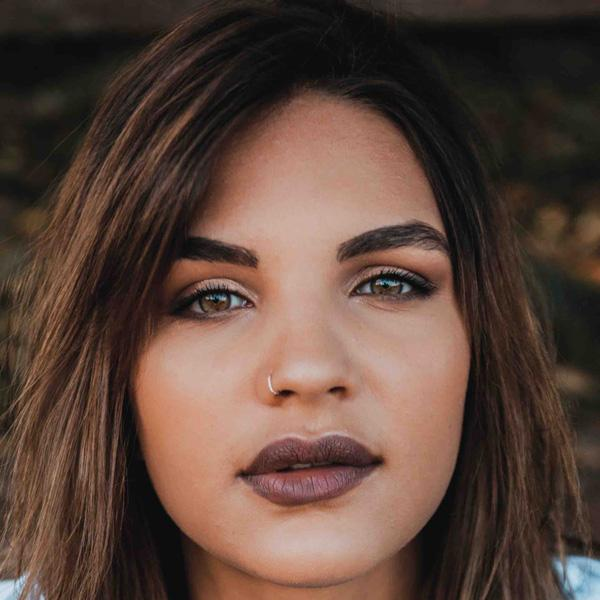Eyes: (160, 269, 262, 328), (340, 258, 439, 314)
